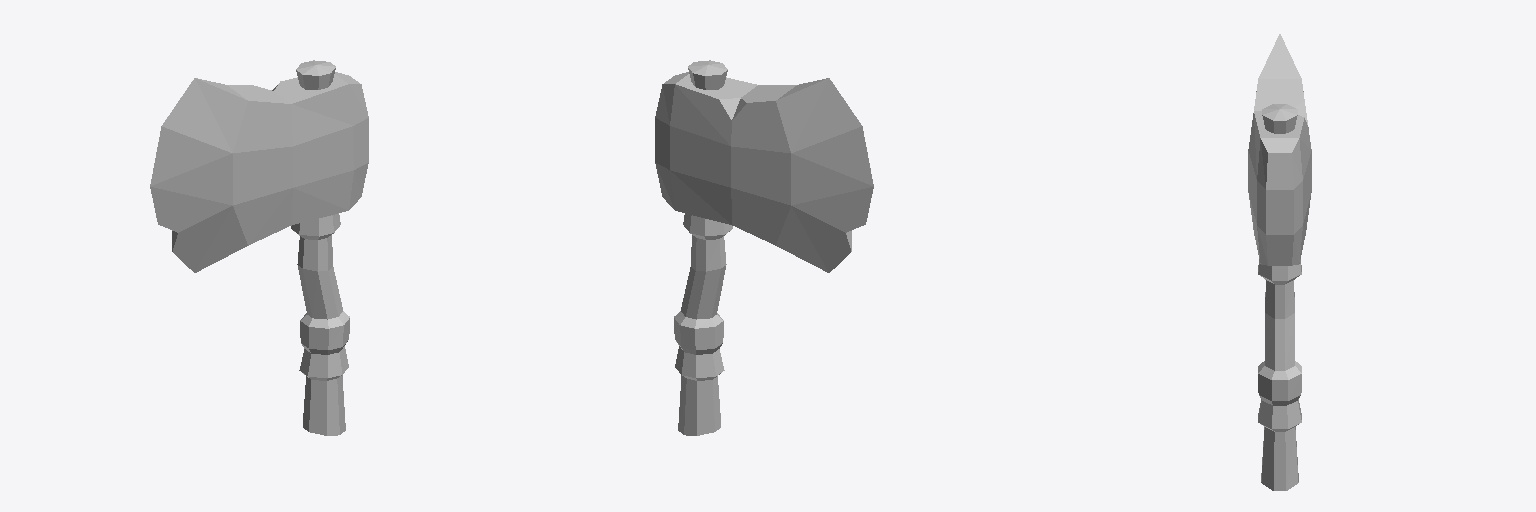
Rendered from axe_1handed.obj.
3 views of the same model, side by side, from view 1: azimuth 30°, elevation 25°; view 2: azimuth 150°, elevation 25°; view 3: azimuth 270°, elevation 25° (orthographic).
Visible parts, largest first — view 1: axe_1handed; view 2: axe_1handed; view 3: axe_1handed.
Part boxes in pixels (left/top/right/bottom): axe_1handed: left=150, top=60, right=368, bottom=435; axe_1handed: left=655, top=60, right=873, bottom=435; axe_1handed: left=1248, top=34, right=1311, bottom=490.
Size of the model in its own units: 0.7143 by 1.24 by 0.185.